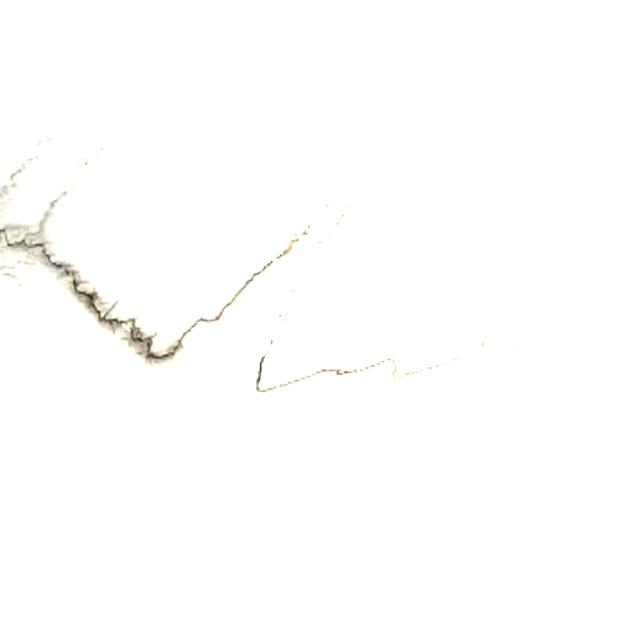crack: (1, 196, 392, 396)
